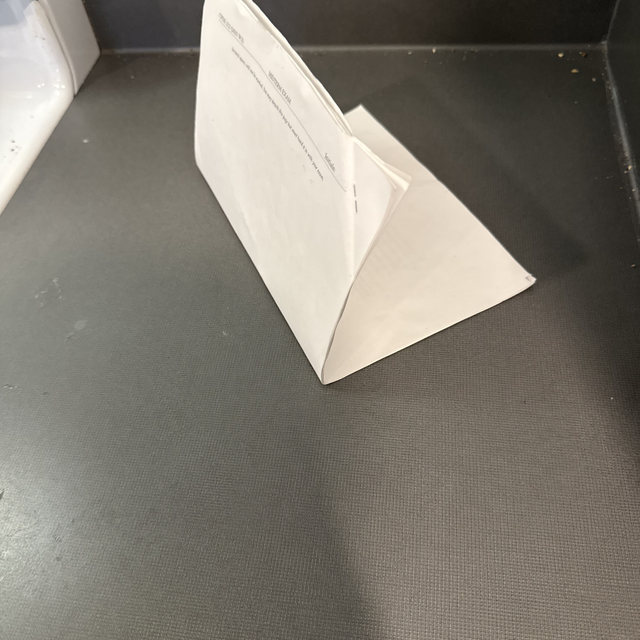Paper: (191, 26, 517, 406)
